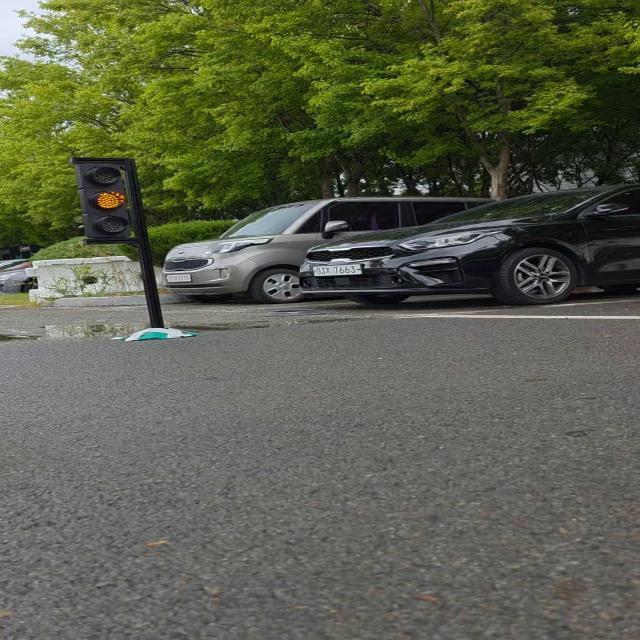yellow: (71, 156, 144, 244)
